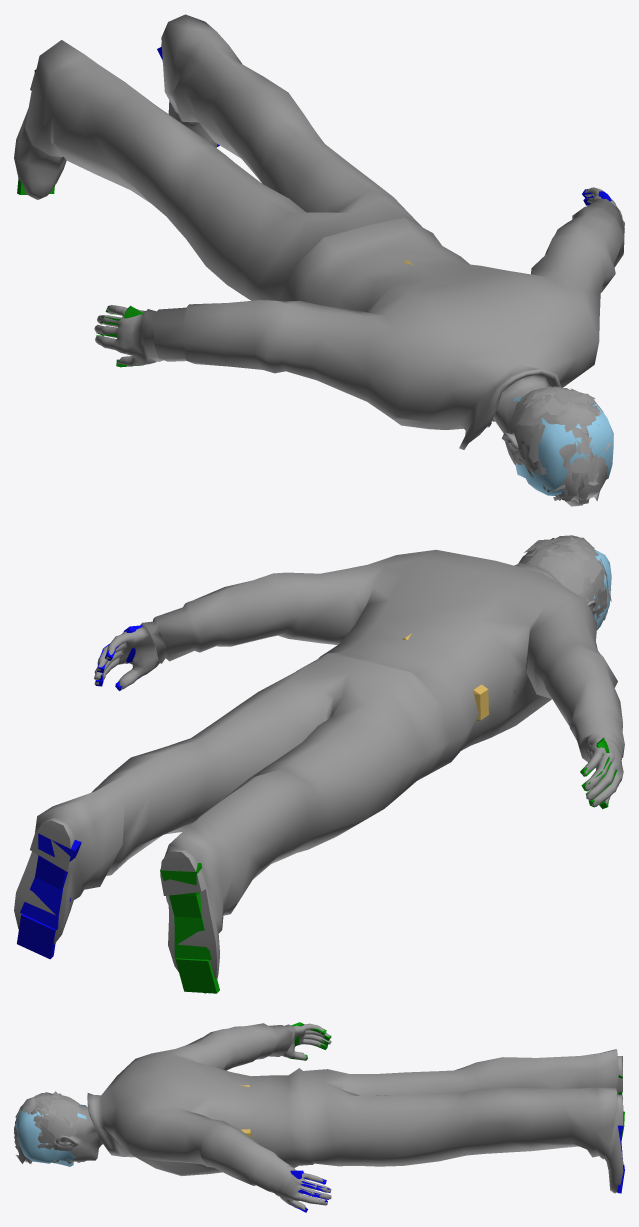
The model's file is man.obj.
3 views of the same model, one above another, from view 1: azimuth 30°, elevation 25°; view 2: azimuth 150°, elevation 25°; view 3: azimuth 270°, elevation 25° (orthographic). The views are drawn at different scales.
Parts seen in each view (by area): view 1: CMan0002_M3_Body, CMan0002_M3_Hair, Bip01_Head; view 2: CMan0002_M3_Body, CMan0002_M3_Hair, Bip01_L_Foot, Bip01_R_Foot, Bip01_R_Toe0, Bip01_L_Toe0; view 3: CMan0002_M3_Body, CMan0002_M3_Hair, Bip01_Head.
Part boxes in pixels (x1,y1,x2,y2): CMan0002_M3_Body: (14, 14, 624, 465); CMan0002_M3_Hair: (509, 386, 611, 506); Bip01_Head: (513, 397, 613, 495); CMan0002_M3_Body: (14, 546, 624, 993); CMan0002_M3_Hair: (518, 535, 611, 620); Bip01_L_Foot: (20, 833, 81, 929); Bip01_R_Foot: (160, 863, 211, 959); Bip01_R_Toe0: (175, 958, 219, 993); Bip01_L_Toe0: (17, 914, 55, 959); CMan0002_M3_Body: (52, 1023, 623, 1210); CMan0002_M3_Hair: (14, 1091, 79, 1163); Bip01_Head: (15, 1104, 86, 1166).
Bounding box in the file's own units: 1.15 × 0.3273 × 1.84.
